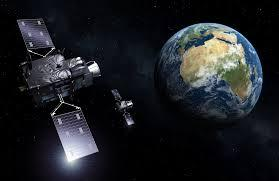body: (15, 52, 105, 110), (112, 98, 136, 114)
solar: (51, 107, 101, 164), (16, 16, 57, 52), (122, 111, 138, 127), (110, 86, 124, 102)
thruster: (84, 58, 102, 79), (15, 84, 28, 96)
